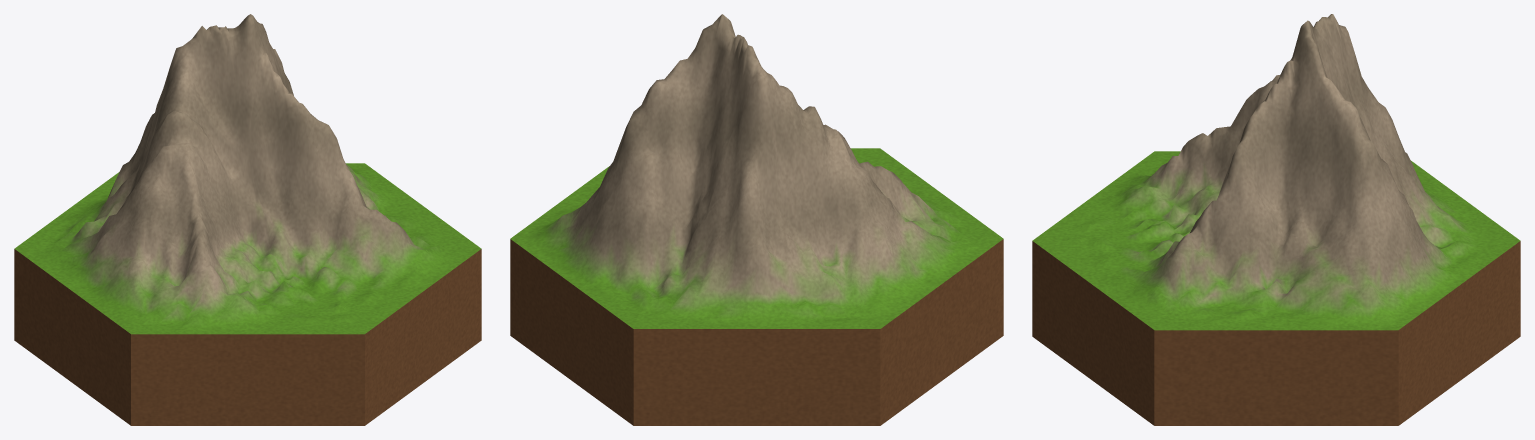
The model's file is SM_MontanaNatural_A_LOD0.fbx.
3 renders of one model, left to right at view 1: azimuth 30°, elevation 25°; view 2: azimuth 150°, elevation 25°; view 3: azimuth 270°, elevation 25°, orthographic. The views are drawn at different scales.
Visible parts, largest first — view 1: SM_MontanaNatural_A_LOD0; view 2: SM_MontanaNatural_A_LOD0; view 3: SM_MontanaNatural_A_LOD0.
Boxes of the visible parts, x1,y1,x2,y2 form: SM_MontanaNatural_A_LOD0: (14,14,481,425); SM_MontanaNatural_A_LOD0: (510,14,1003,425); SM_MontanaNatural_A_LOD0: (1032,14,1520,425).
Bounding box in the file's own units: 1.68 × 1.43 × 1.94.
1 material, 1 textured.
